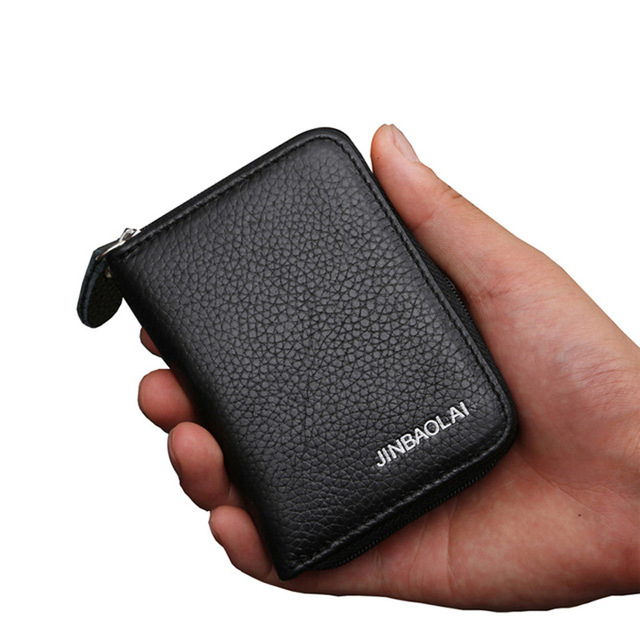monedero: (79, 127, 517, 584)
